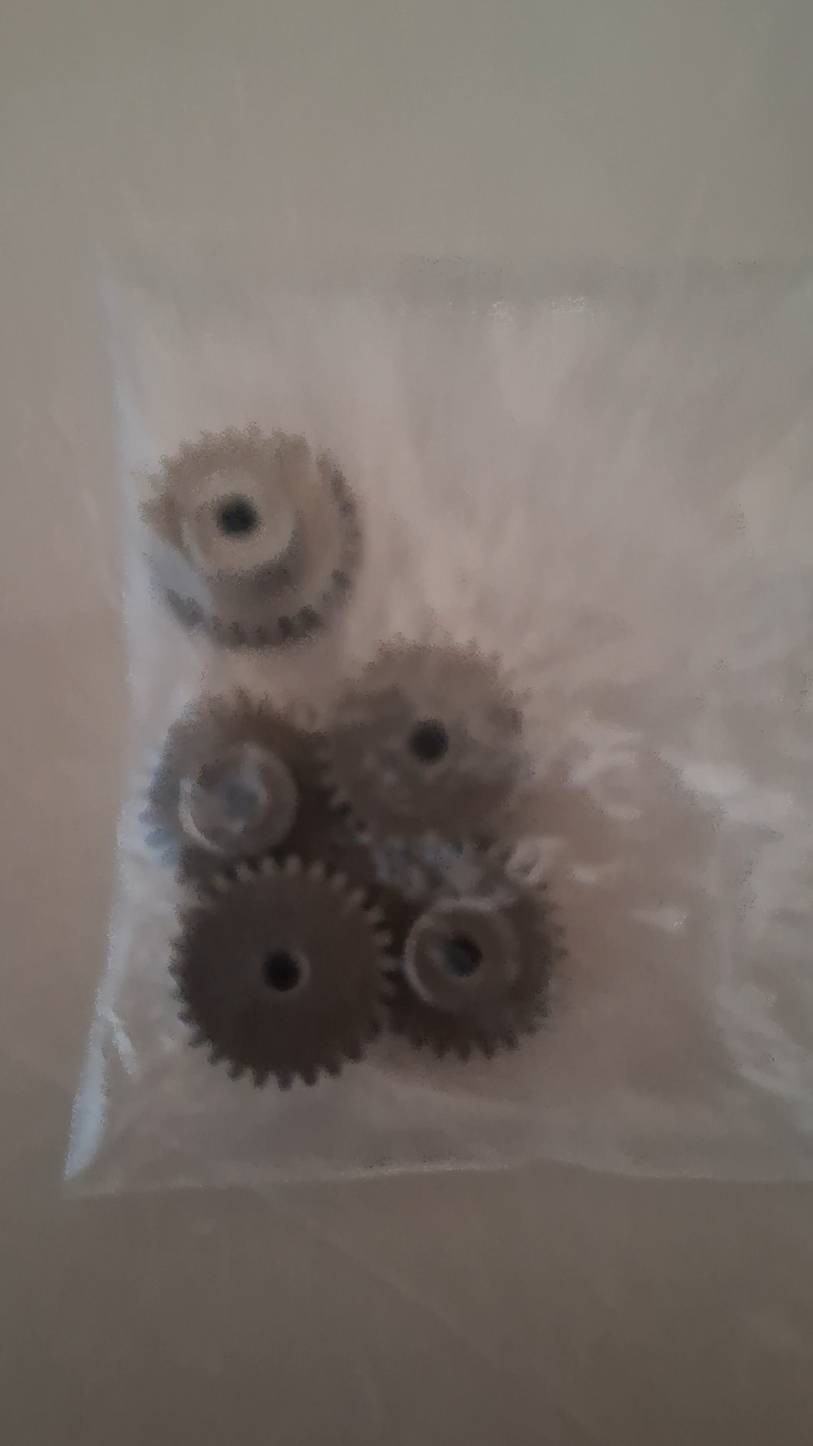spur gear: (170, 857, 387, 1088), (143, 426, 361, 647), (326, 644, 526, 839), (142, 690, 336, 881), (388, 872, 561, 1060)
